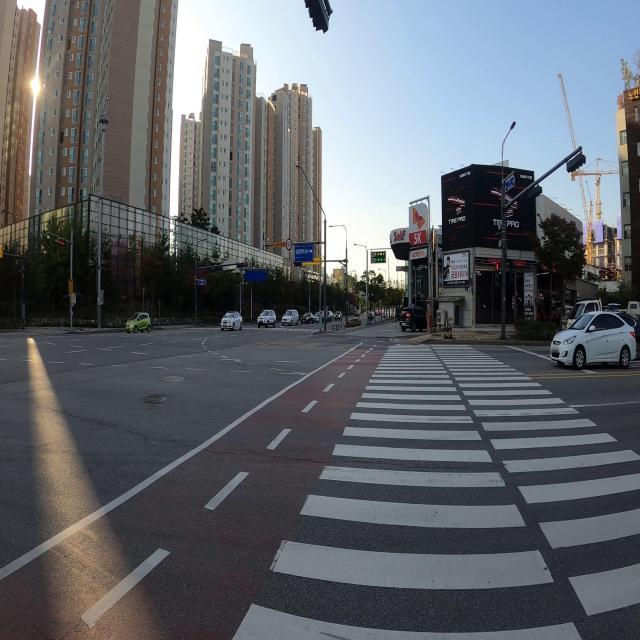crosswalk: (231, 342, 640, 640), (180, 326, 330, 332)
